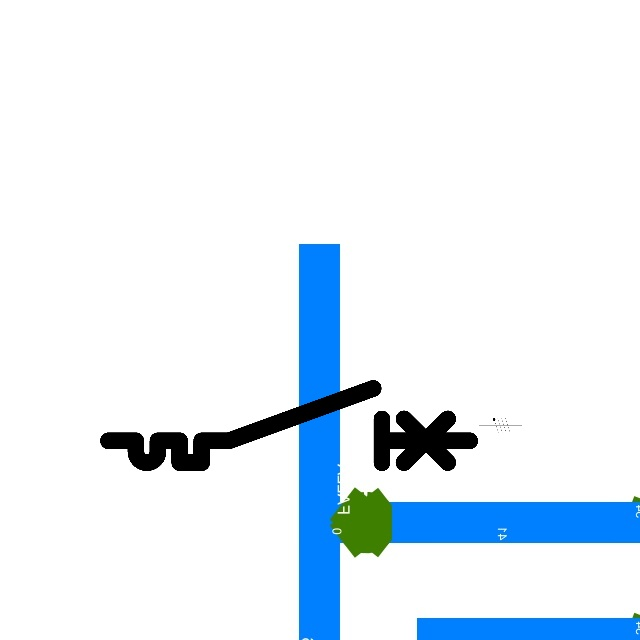interruptor_termomagnetico: (99, 379, 479, 472)
